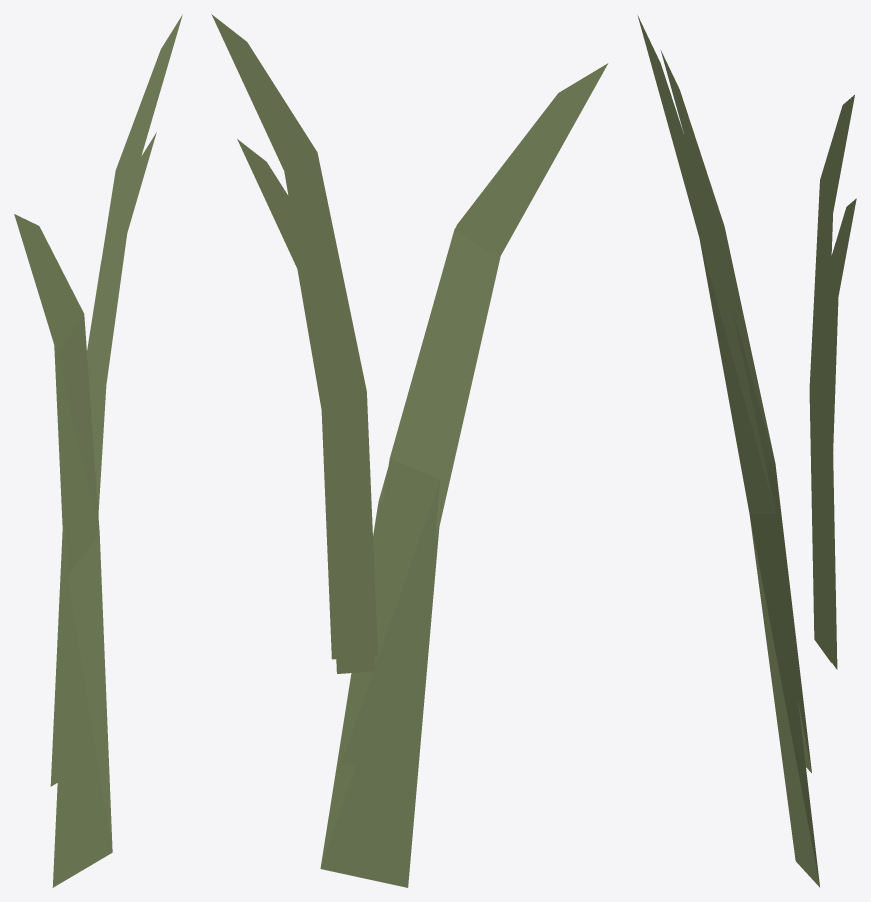
The model's file is watergrass.obj.
The picture shows the model from 3 angles, left to right: view 1: azimuth 30°, elevation 25°; view 2: azimuth 150°, elevation 25°; view 3: azimuth 270°, elevation 25°; orthographic projection. The views are drawn at different scales.
Parts seen in each view (by area): view 1: Watergrass.inst.001_Cube.020, Watergrass.001.inst.001_Cube.021, Watergrass.002.inst_Cube.007, Watergrass.003.inst_Cube.008; view 2: Watergrass.002.inst_Cube.007, Watergrass.003.inst_Cube.008, Watergrass.inst.001_Cube.020, Watergrass.001.inst.001_Cube.021; view 3: Watergrass.inst.001_Cube.020, Watergrass.001.inst.001_Cube.021, Watergrass.002.inst_Cube.007, Watergrass.003.inst_Cube.008.
Part boxes in pixels (left/top/right/bottom): Watergrass.inst.001_Cube.020: left=14, top=214, right=112, bottom=887; Watergrass.001.inst.001_Cube.021: left=87, top=14, right=182, bottom=515; Watergrass.002.inst_Cube.007: left=50, top=346, right=67, bottom=786; Watergrass.003.inst_Cube.008: left=87, top=132, right=156, bottom=351; Watergrass.002.inst_Cube.007: left=341, top=94, right=580, bottom=778; Watergrass.003.inst_Cube.008: left=237, top=139, right=375, bottom=673; Watergrass.inst.001_Cube.020: left=320, top=63, right=608, bottom=887; Watergrass.001.inst.001_Cube.021: left=211, top=14, right=377, bottom=659; Watergrass.inst.001_Cube.020: left=637, top=15, right=819, bottom=887; Watergrass.001.inst.001_Cube.021: left=809, top=95, right=854, bottom=662; Watergrass.002.inst_Cube.007: left=660, top=50, right=811, bottom=772; Watergrass.003.inst_Cube.008: left=826, top=198, right=856, bottom=669.
Size of the model in its own units: 1.15 by 3.26 by 0.7653.
2 materials, 2 textured.
